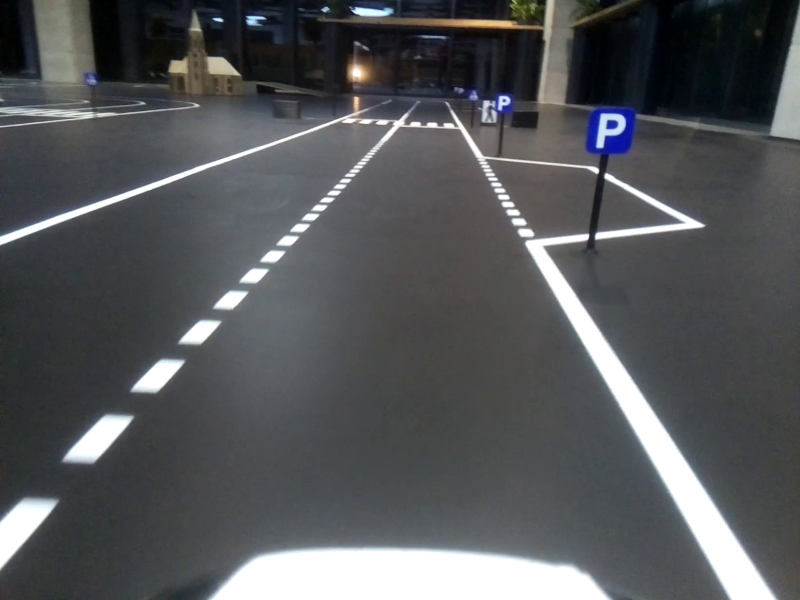park: (587, 104, 629, 159)
